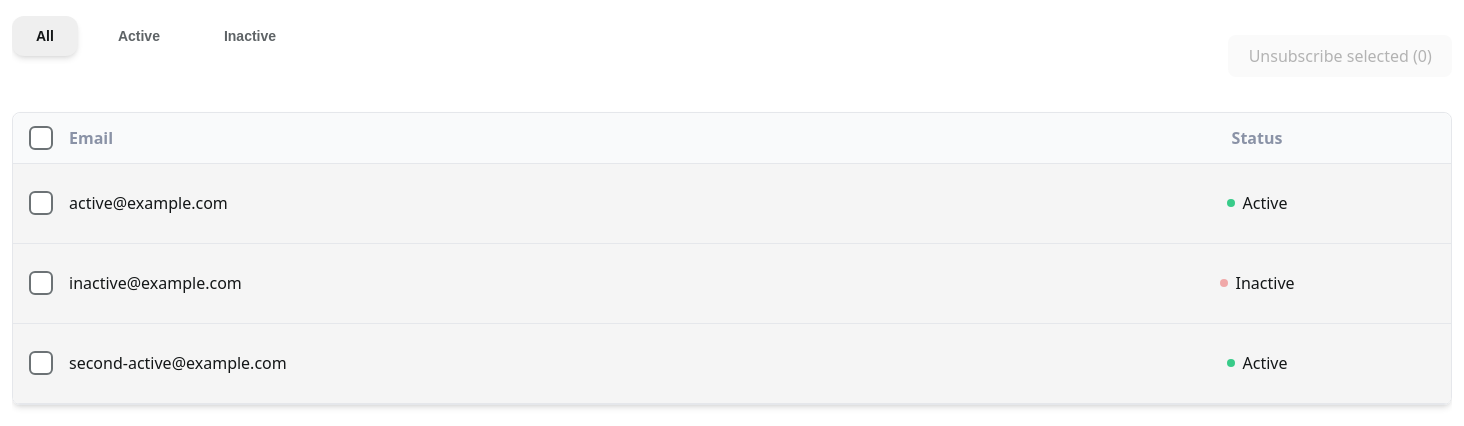
Test: UI Component: TableSubscriptions › should filter subscribers by tabs
The image size is (1464, 426).
Check: the text "active@example.com" is shown, box [69,191,228,215]
Check: the text "inactive@example.com" is shown, box [69,271,242,295]
Click the button "Active" at (139,36), box [94,16,184,56]
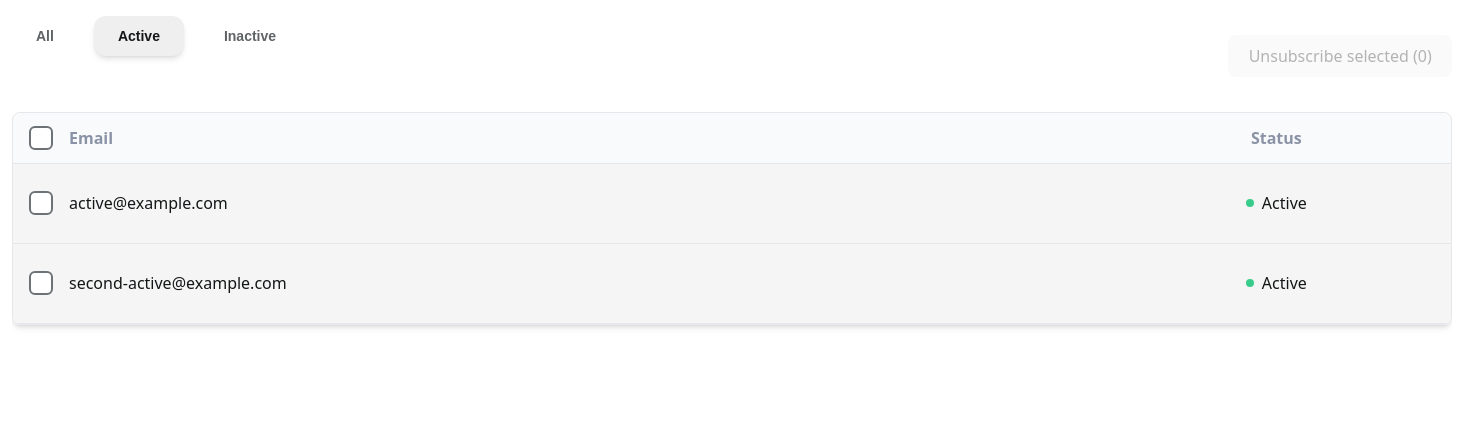
Check: the text "active@example.com" is shown, box [69,191,228,215]
Check: the text "inactive@example.com" is gone
Click the button "Inactive" at (250,36), box [200,16,300,56]
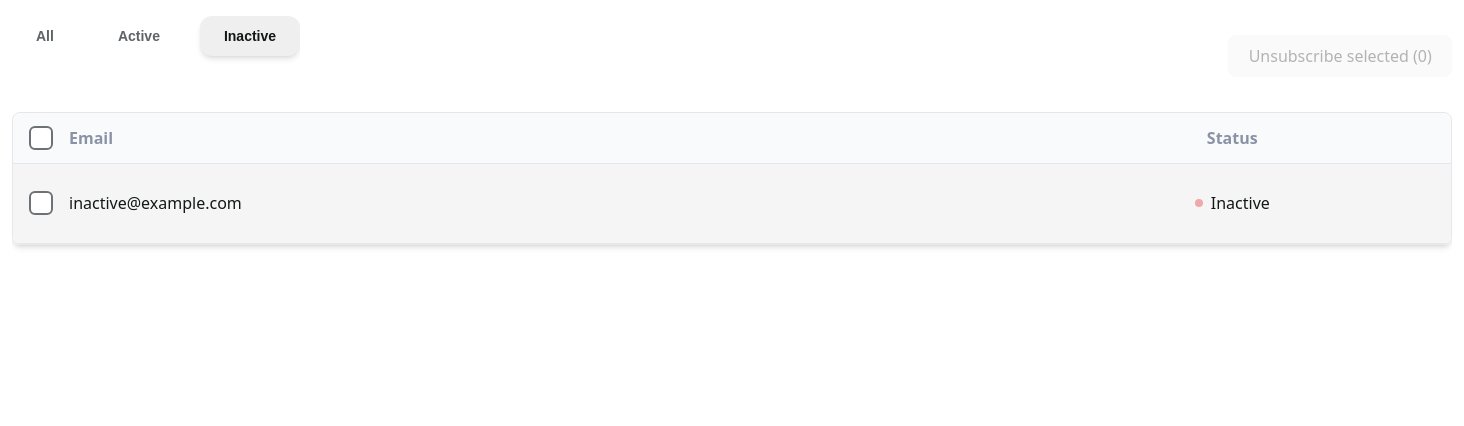
Check: the text "inactive@example.com" is shown, box [69,191,242,215]
Check: the text "second-active@example.com" is gone
